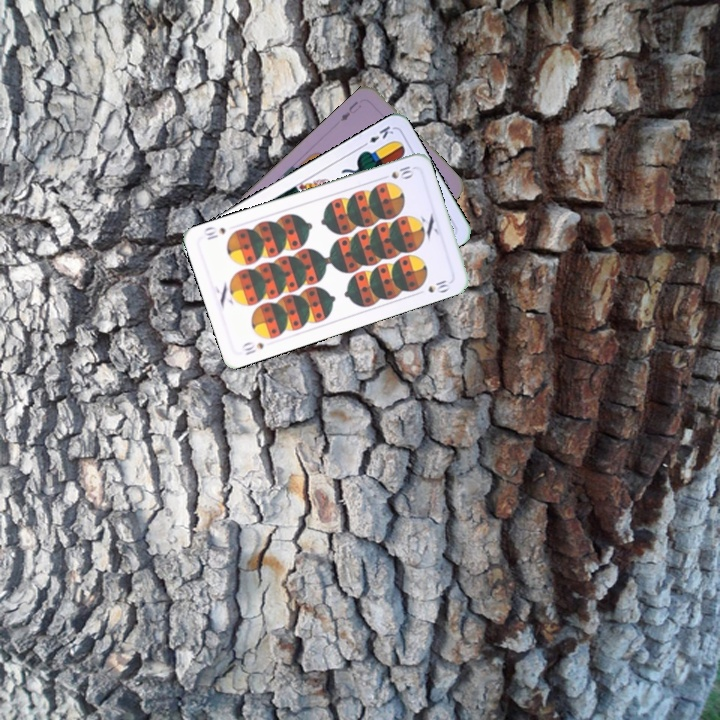EK: (358, 121, 396, 150)
EU: (336, 97, 364, 124)
S10: (377, 162, 417, 182), (238, 338, 267, 358)
